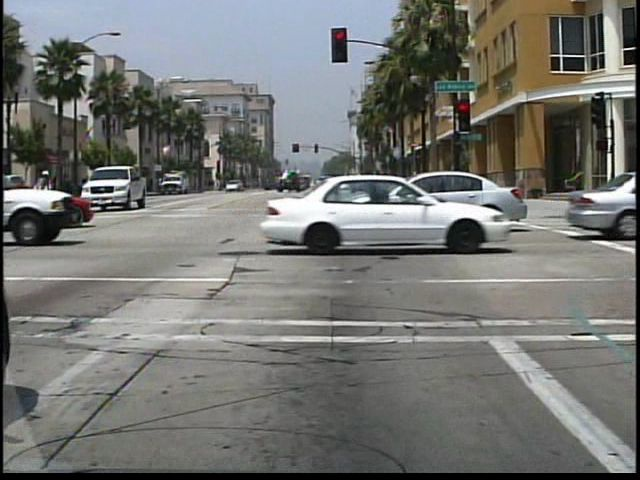person: (36, 168, 61, 215)
